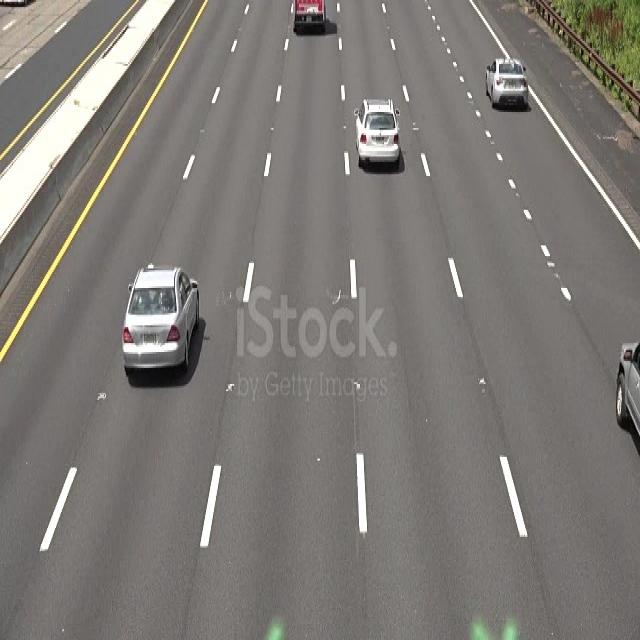Car: (119, 265, 203, 382), (353, 94, 405, 170), (613, 324, 640, 464), (483, 55, 531, 106)
Truck: (291, 0, 329, 47)
